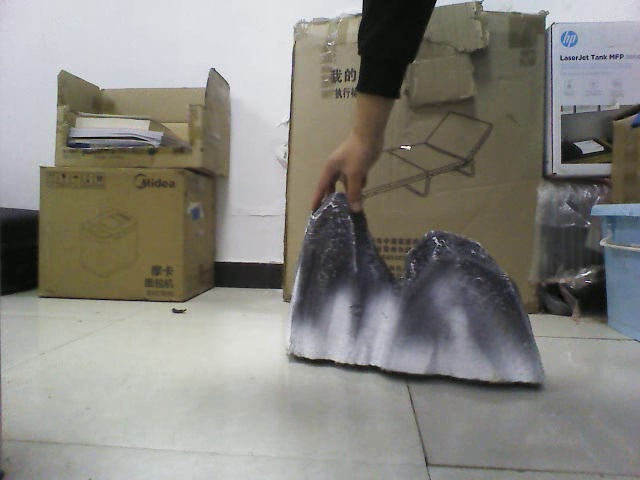rock: (288, 195, 547, 387)
